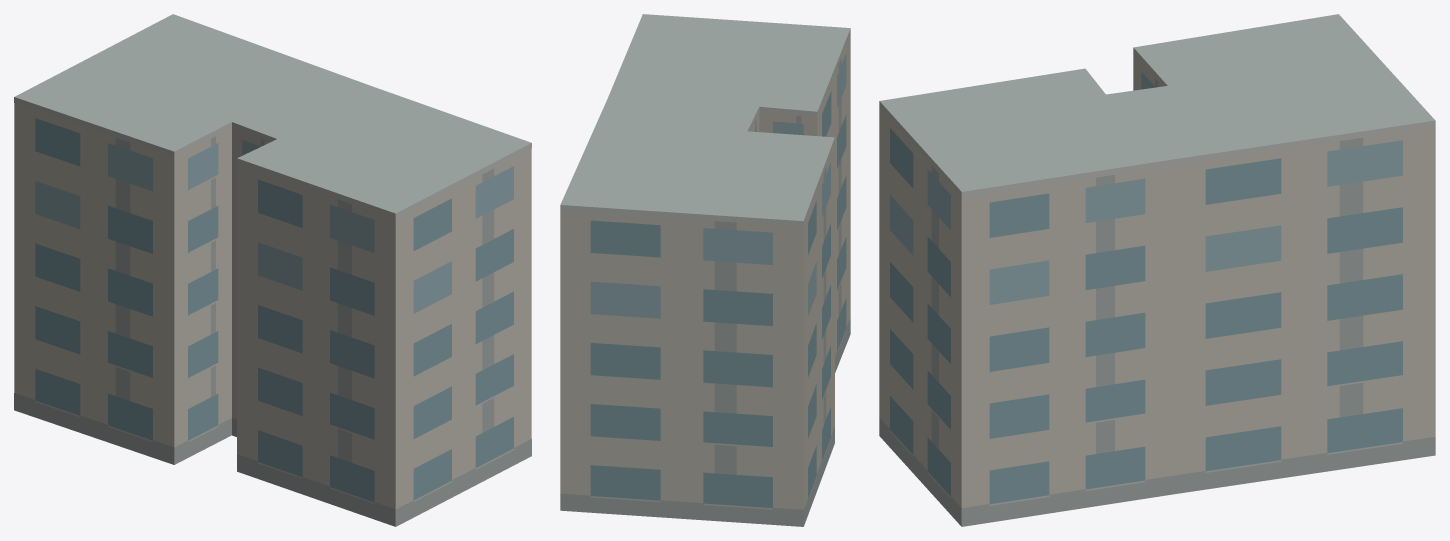
File: survey-upis-32825516.glb
The picture shows the model from 3 angles, left to right: view 1: azimuth 30°, elevation 25°; view 2: azimuth 150°, elevation 25°; view 3: azimuth 270°, elevation 25°; orthographic projection. The views are drawn at different scales.
Visible parts, largest first — view 1: survey-upis-32825516.tmp; view 2: survey-upis-32825516.tmp; view 3: survey-upis-32825516.tmp.
Boxes of the visible parts, x1,y1,x2,y2 form: survey-upis-32825516.tmp: (14,14,531,526); survey-upis-32825516.tmp: (560,14,850,526); survey-upis-32825516.tmp: (879,14,1435,526).
Size of the model in its own units: 14.59 by 12.8 by 19.27.
